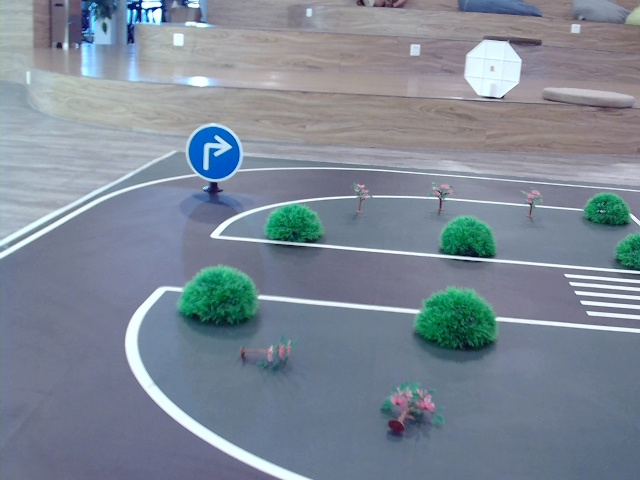turn_right: (197, 135, 232, 170)
